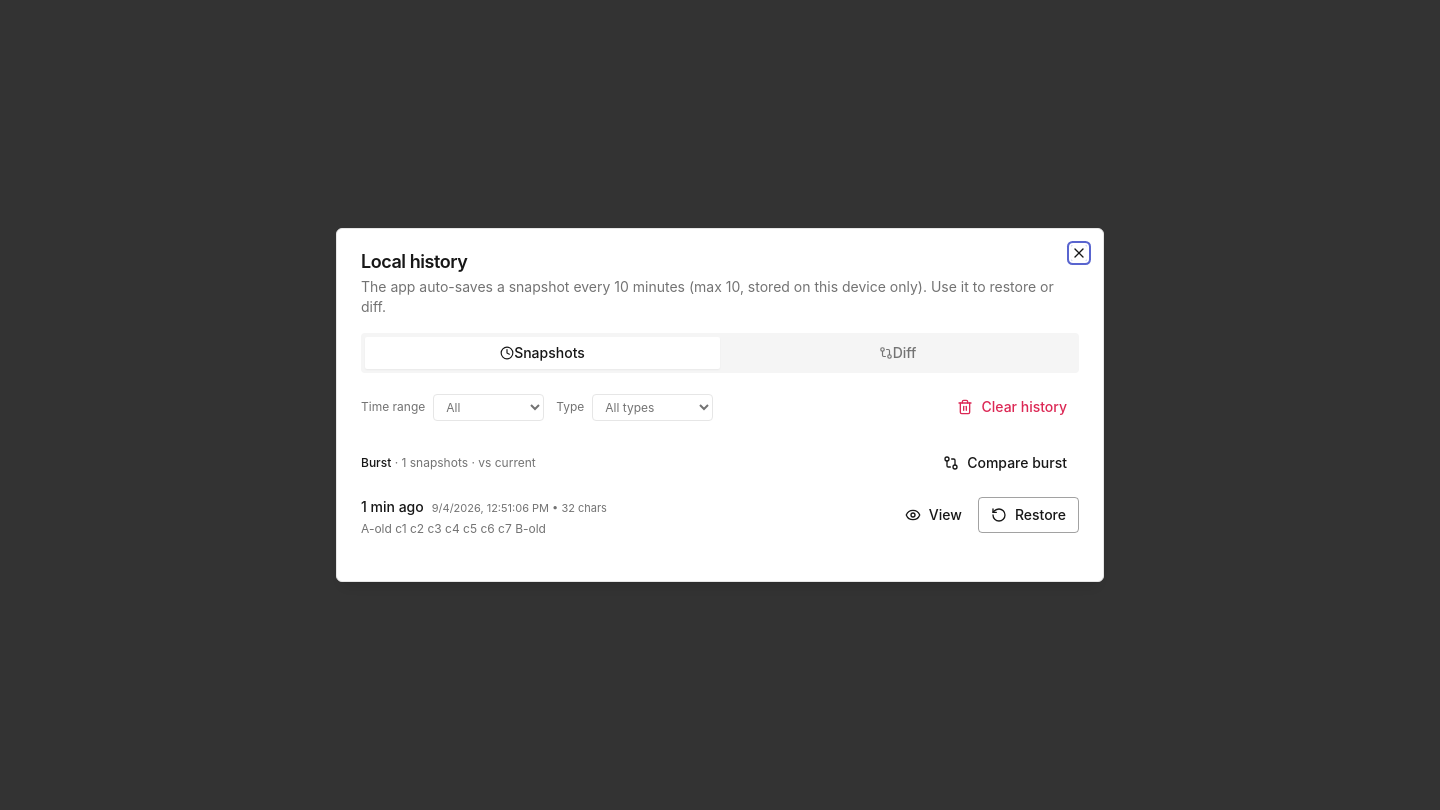
Scenario: HistoryDialog selective restore › restores only the checked hunk into the live Y.Text
Later steps or results of the test are not shown.
Expected: the text "Burst" is shown, [361,455,391,470]
Click the button "Compare burst". click: (1005, 463)
box: [931,445,1079,481]
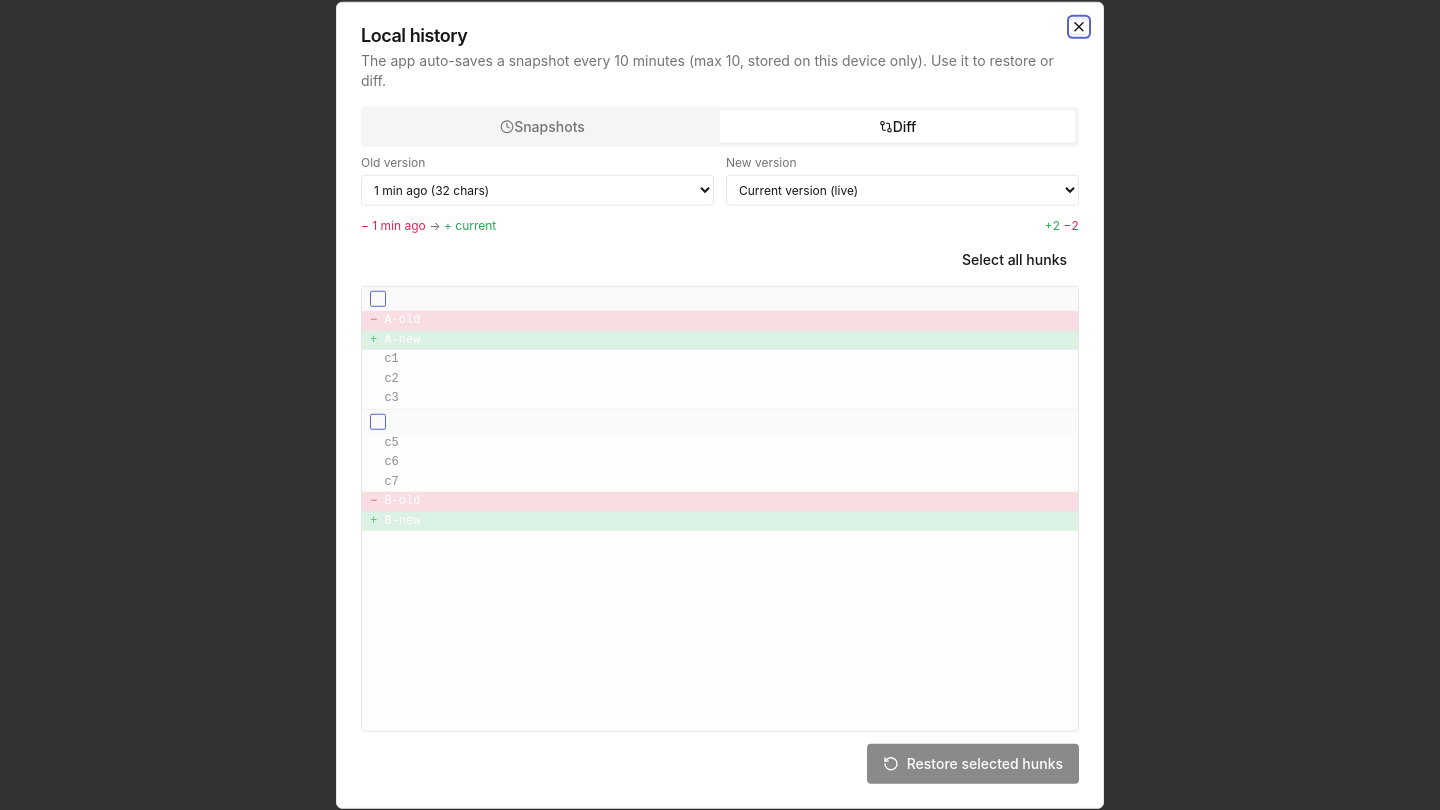
Expected: the number of checkboxes named "Include this hunk in restore" is 2, [370,291,386,307]; [370,413,386,429]
